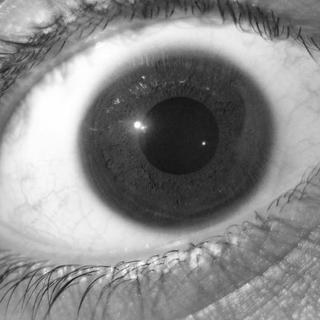pupil: (139, 98, 217, 177)
